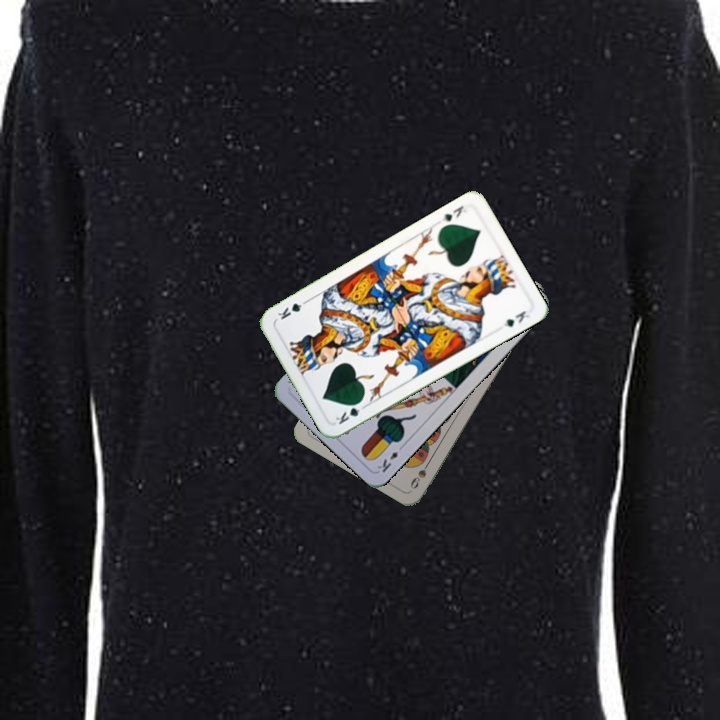EK: (373, 440, 407, 475)
GK: (331, 396, 365, 427), (437, 201, 469, 224)
S9: (406, 455, 434, 492)
